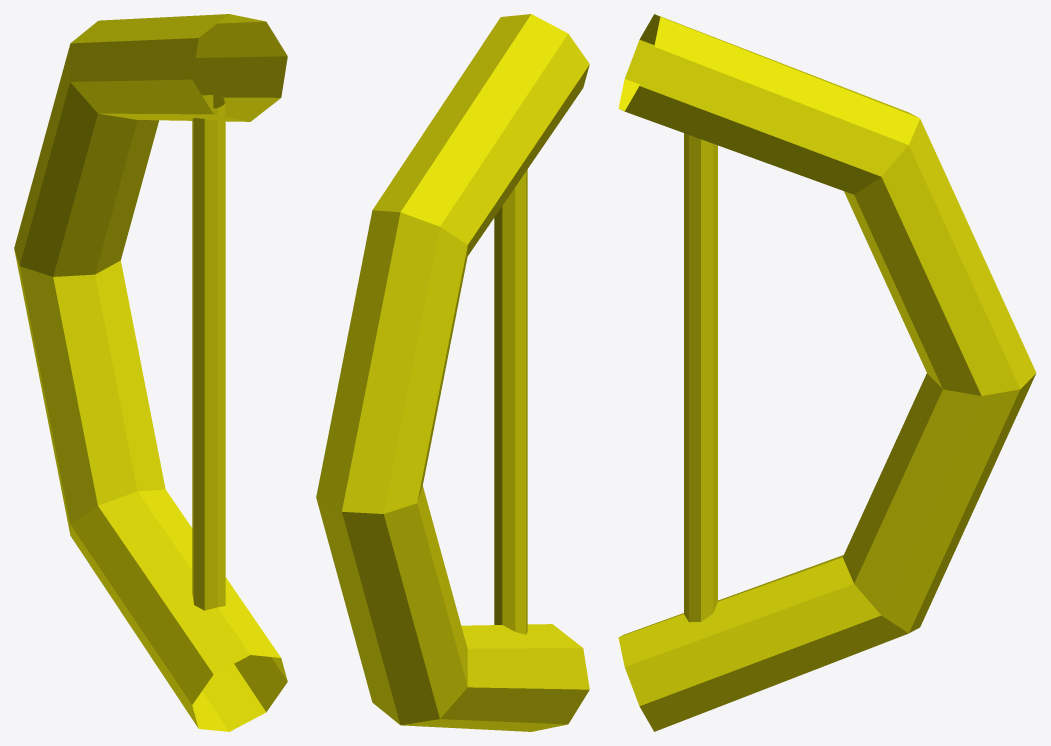
The model's file is Bow.fbx.
3 renders of one model, left to right at view 1: azimuth 30°, elevation 25°; view 2: azimuth 150°, elevation 25°; view 3: azimuth 270°, elevation 25°, orthographic.
Visible parts, largest first — view 1: Circle.001; view 2: Circle.001; view 3: Circle.001.
Part boxes in pixels (x1=…): Circle.001: x1=14, y1=14, x2=287, y2=731; Circle.001: x1=316, y1=14, x2=589, y2=731; Circle.001: x1=618, y1=14, x2=1036, y2=731.
Size of the model in its own units: 32 by 230 by 122.
